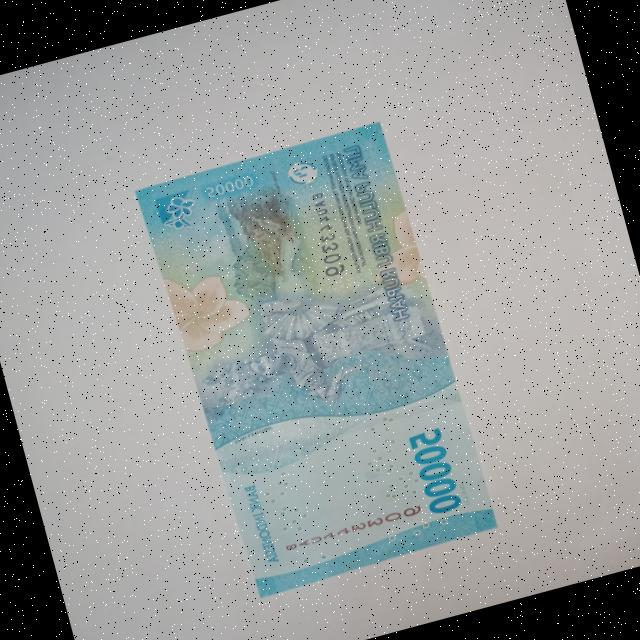50K: (119, 107, 519, 614)
